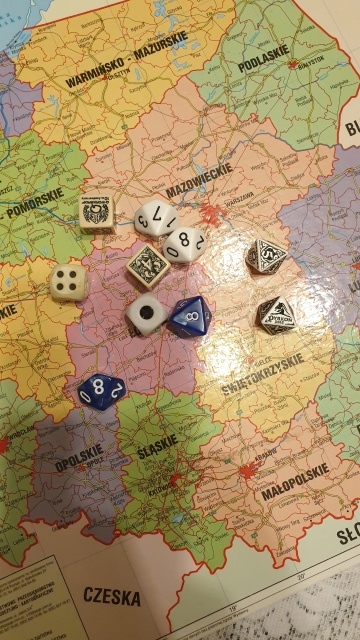d10-7: (133, 197, 182, 237)
d10-8: (78, 369, 127, 414), (160, 226, 212, 262), (175, 299, 210, 335)
d6-1: (123, 292, 167, 337)
d6-4: (50, 263, 86, 303)
d6p-4: (125, 243, 172, 290)
d6p-6: (77, 196, 116, 230)
d8p-1: (252, 294, 298, 340)
d8p-5: (244, 238, 291, 277)
